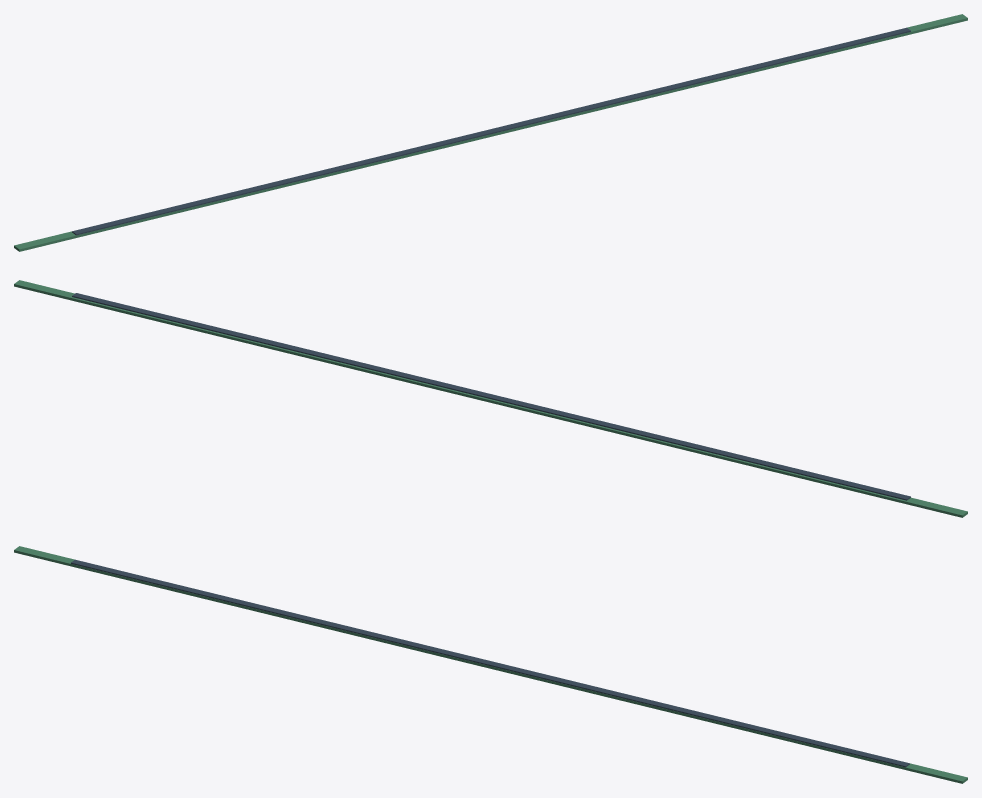
File: ws2812b-strip.glb
The picture shows the model from 3 angles, top to bottom: view 1: azimuth 30°, elevation 25°; view 2: azimuth 150°, elevation 25°; view 3: azimuth 330°, elevation 25°; orthographic projection.
Parts seen in each view (by area): view 1: ws2812b-strip-display, ws2812b-strip-pcb; view 2: ws2812b-strip-display, ws2812b-strip-pcb; view 3: ws2812b-strip-display, ws2812b-strip-pcb.
Part boxes in pixels (left/top/right/bottom): ws2812b-strip-display: left=72, top=27, right=910, bottom=235; ws2812b-strip-pcb: left=14, top=14, right=967, bottom=251; ws2812b-strip-display: left=72, top=293, right=910, bottom=500; ws2812b-strip-pcb: left=14, top=280, right=967, bottom=517; ws2812b-strip-display: left=71, top=559, right=909, bottom=767; ws2812b-strip-pcb: left=14, top=546, right=967, bottom=783.
Size of the model in its own units: 1 by 0.0037 by 0.01.
